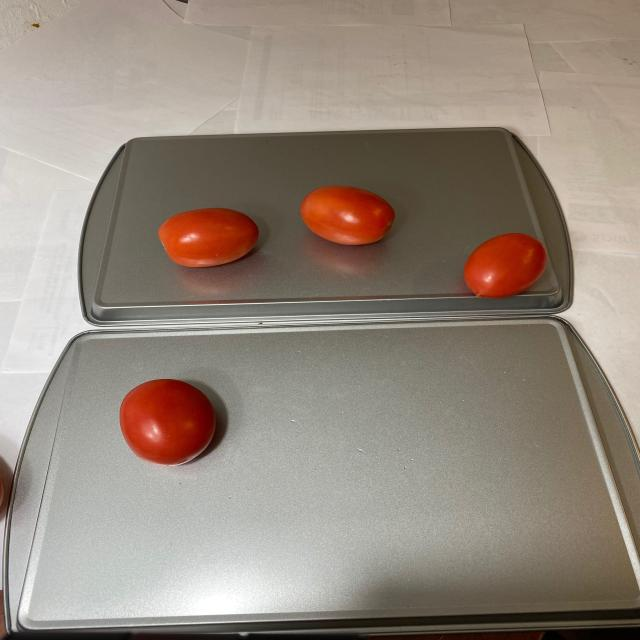tomato: (146, 185, 400, 275), (106, 376, 224, 470), (462, 235, 547, 301)
